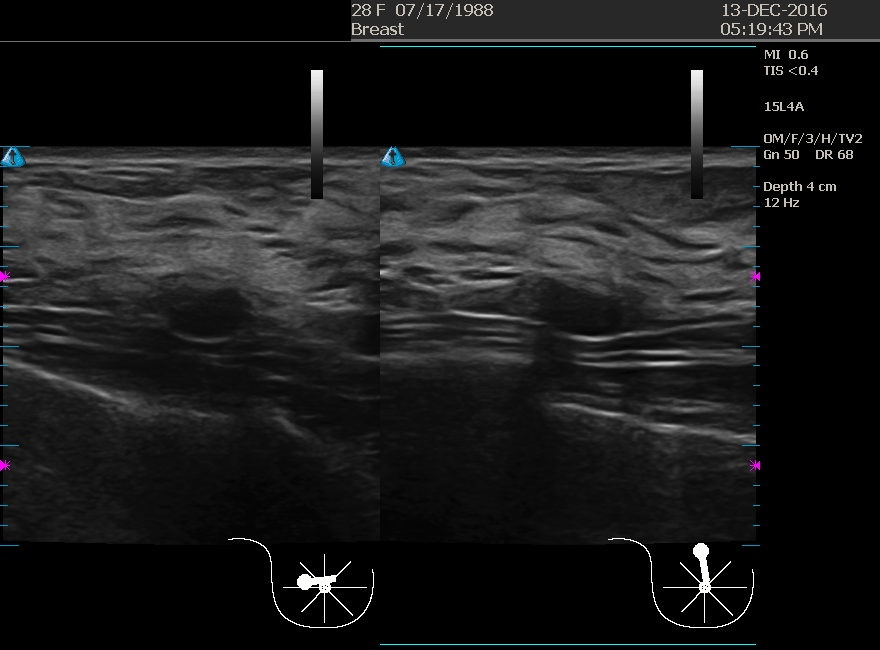BIRADS_2: (111, 219, 303, 411), (489, 218, 681, 410)
